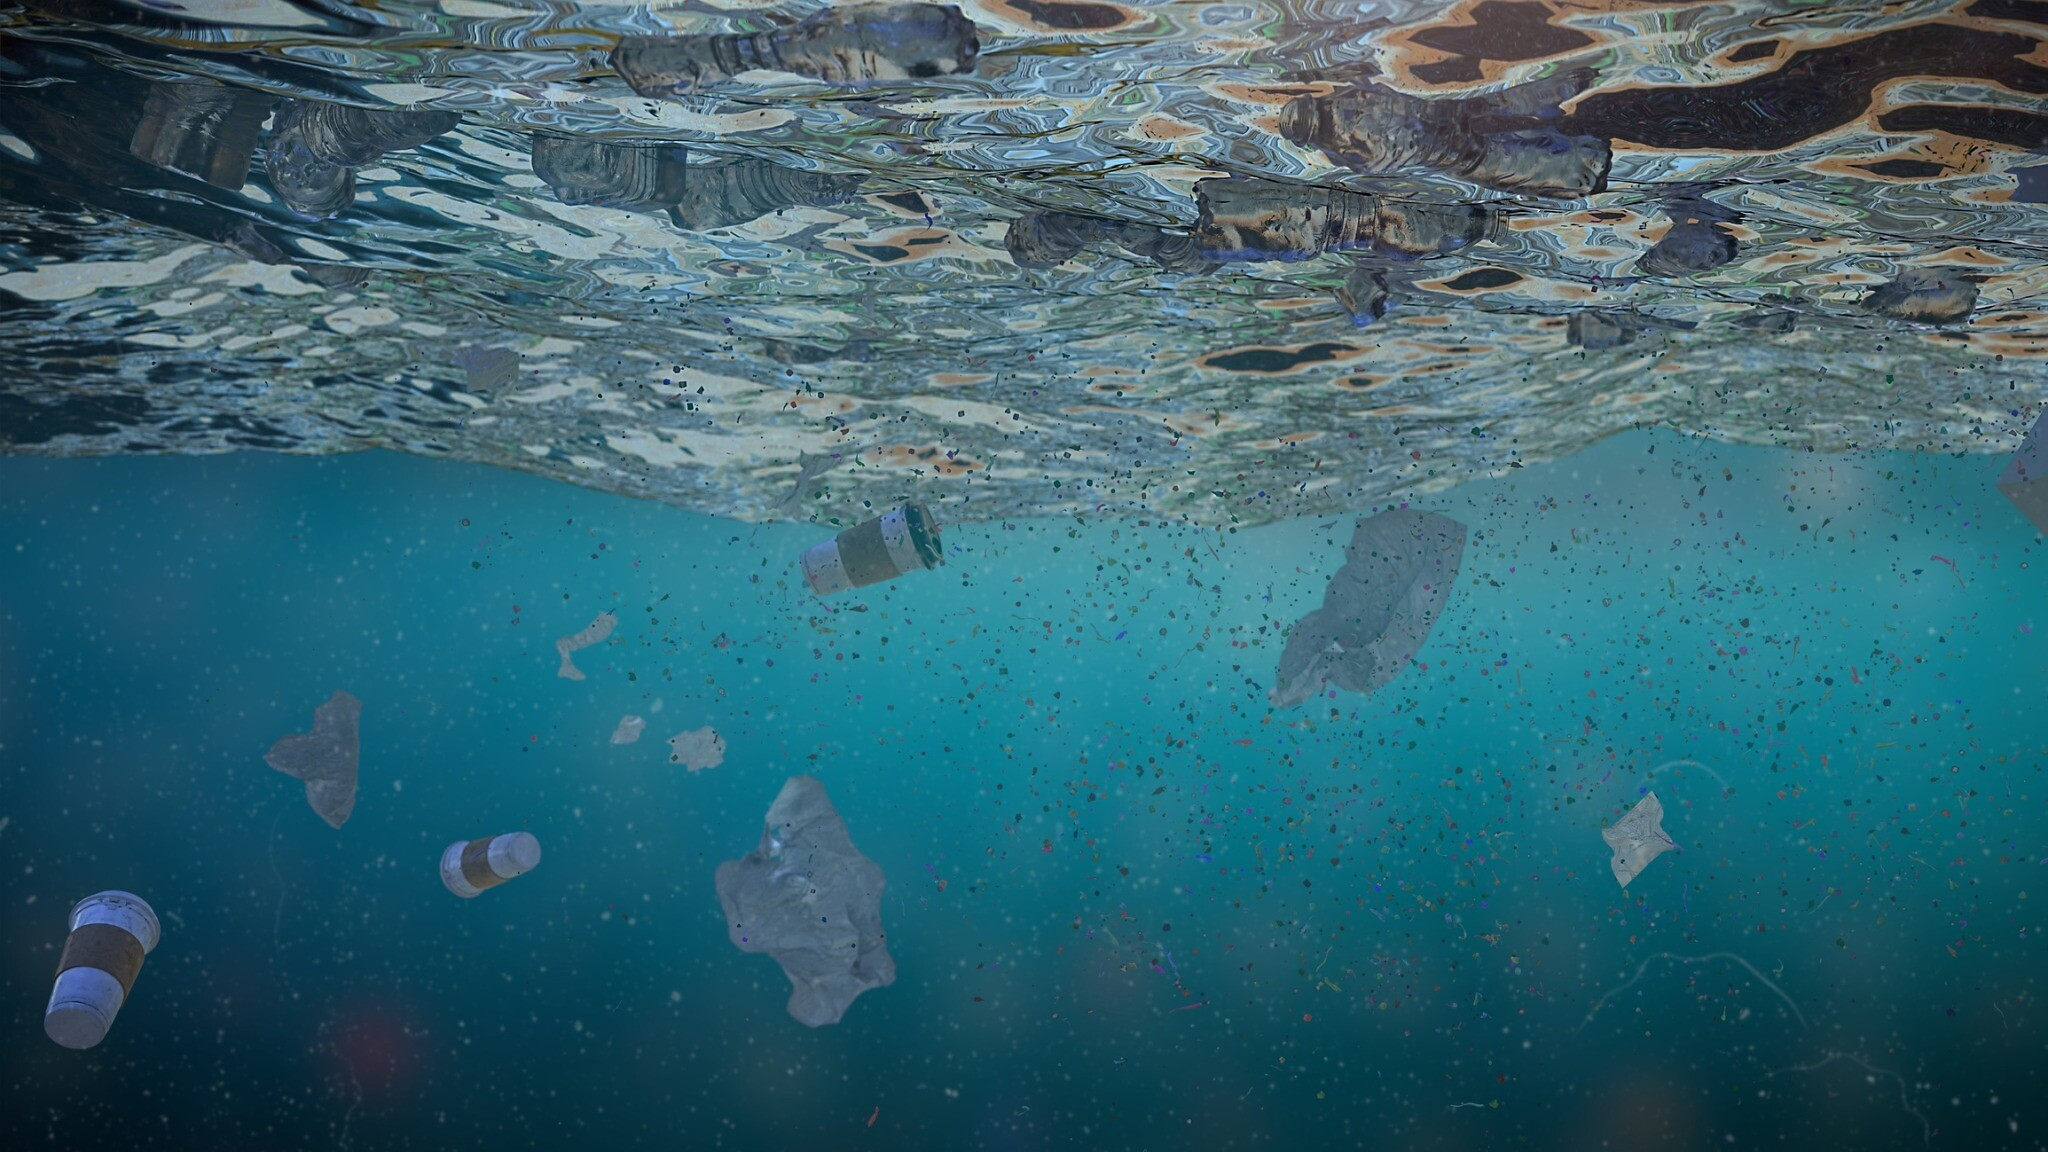plastic_bag: (713, 767, 907, 1041), (1259, 497, 1468, 715), (260, 688, 385, 830), (1598, 785, 1681, 885), (549, 606, 625, 684), (651, 720, 743, 782), (601, 706, 651, 748)
